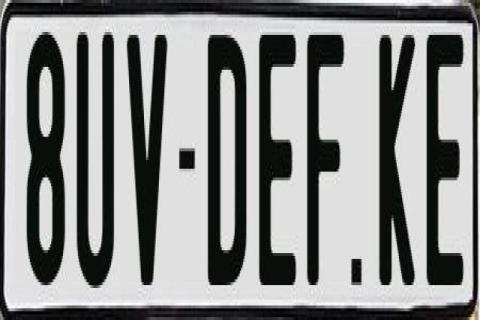0: (25, 29, 68, 299)
D: (205, 35, 243, 285)
E: (258, 35, 301, 297), (427, 35, 462, 291)
F: (306, 26, 344, 288)
K: (376, 35, 412, 297)
U: (73, 32, 118, 306)
V: (126, 32, 170, 300)
